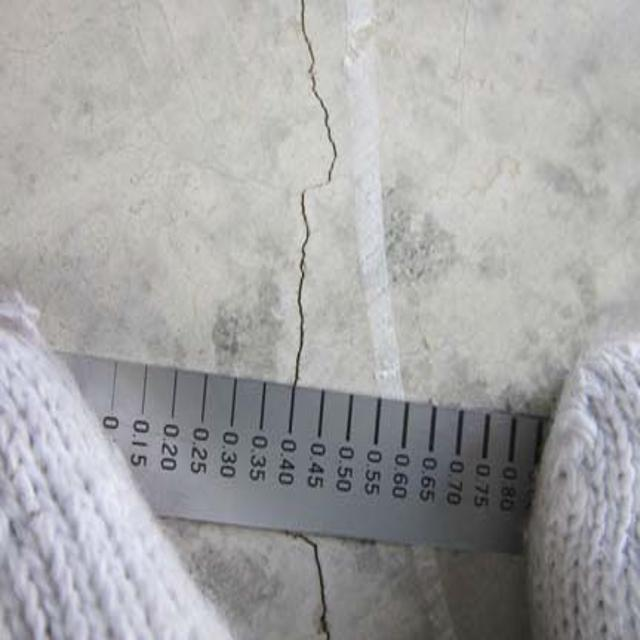crack: (267, 3, 347, 380), (264, 530, 347, 640)
